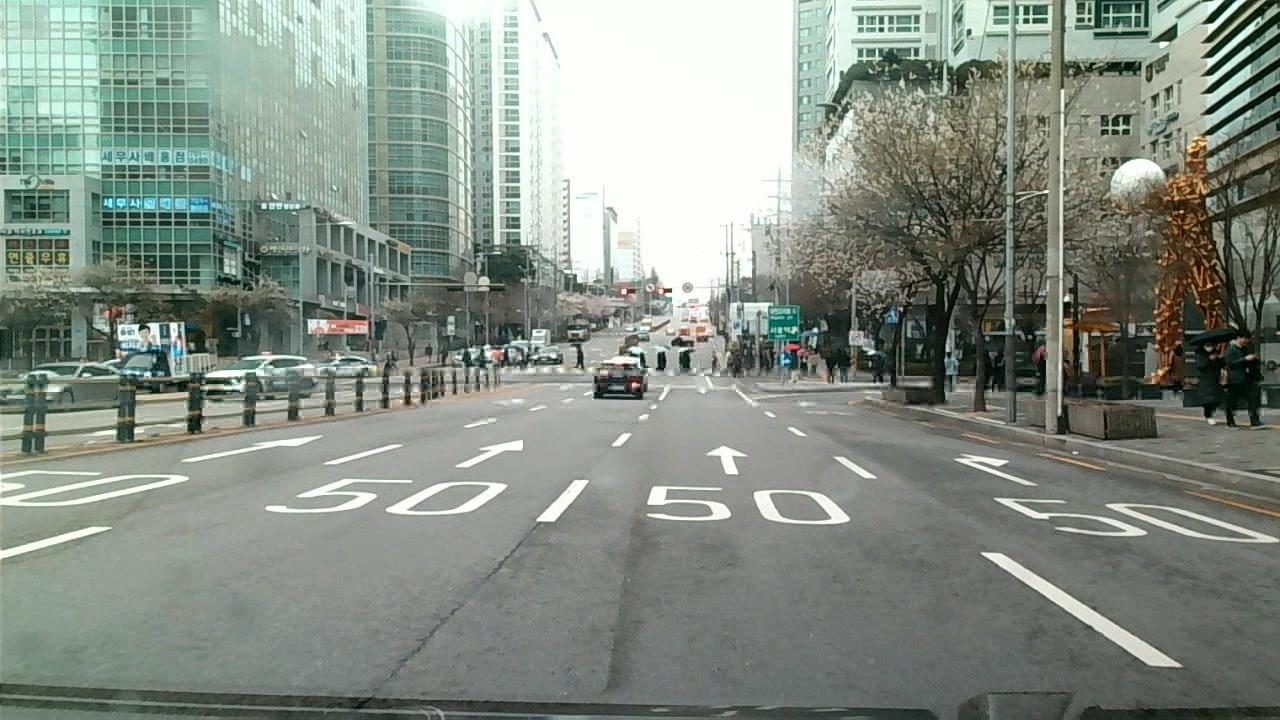vcrack: (349, 522, 546, 704), (594, 518, 633, 695)
